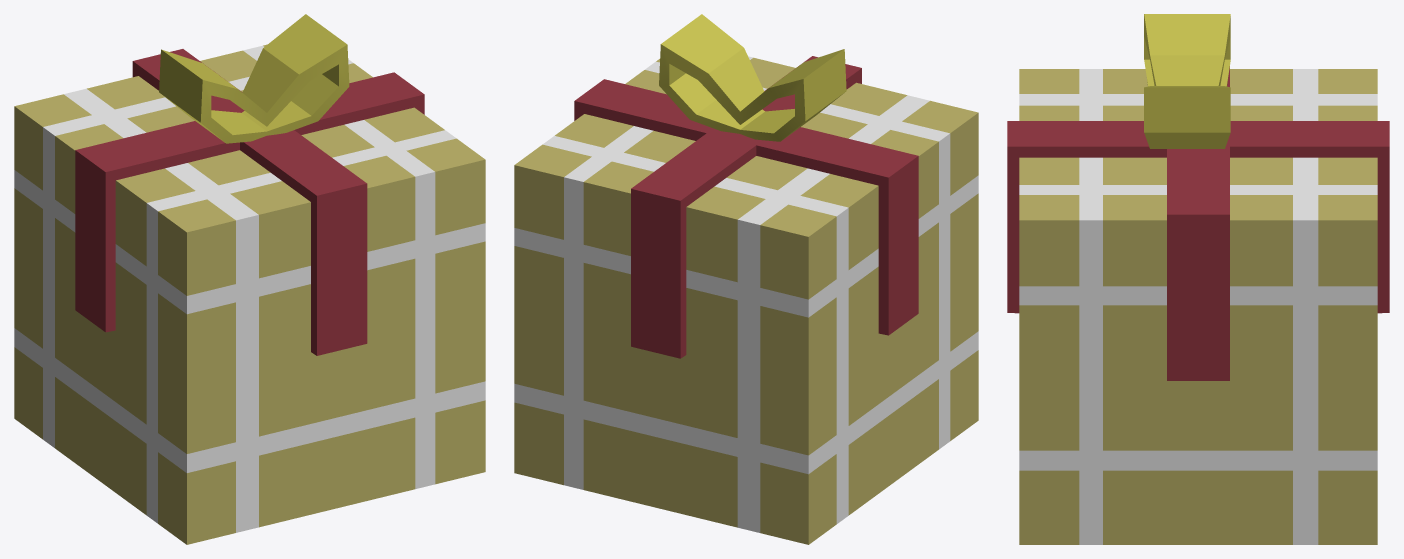
Rendered from Caja_Navidena_3.fbx.
3 views of the same model, side by side, from view 1: azimuth 30°, elevation 25°; view 2: azimuth 150°, elevation 25°; view 3: azimuth 270°, elevation 25° (orthographic). The views are drawn at different scales.
Parts seen in each view (by area): view 1: fes_Caja_tipo_2, Moñito_2; view 2: fes_Caja_tipo_2, Moñito_2; view 3: fes_Caja_tipo_2, Moñito_2.
Boxes of the visible parts, left/top/right/bottom form: fes_Caja_tipo_2: left=14, top=44, right=485, bottom=544; Moñito_2: left=159, top=14, right=349, bottom=143; fes_Caja_tipo_2: left=514, top=56, right=978, bottom=544; Moñito_2: left=659, top=14, right=846, bottom=141; fes_Caja_tipo_2: left=1007, top=67, right=1389, bottom=544; Moñito_2: left=1144, top=14, right=1230, bottom=148.
Size of the model in its own units: 1.07 by 1.29 by 1.07.
